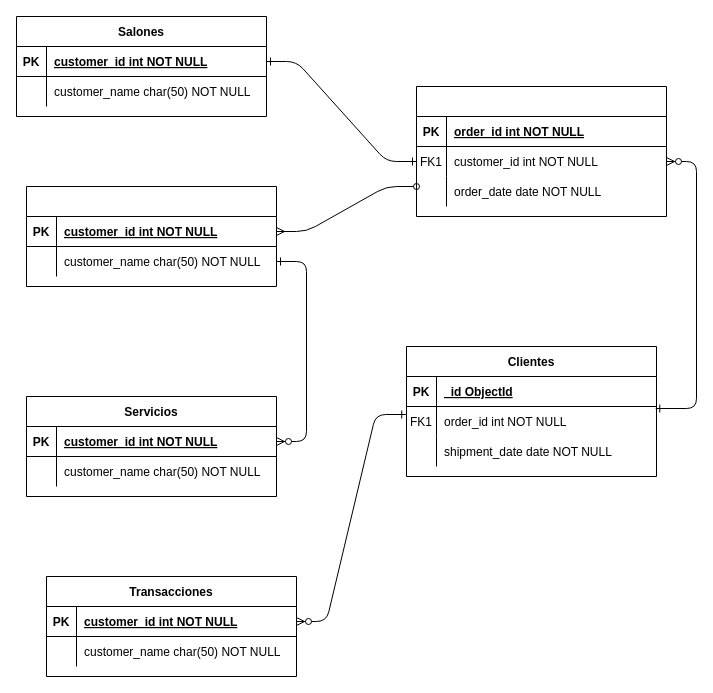
The diagram is 713 pixels wide and 693 high, and some of its shapes have lost their labels. The box of each missing label's shape, as (x1, y1, x2, y2) in pixels:
Contratos: (416, 86, 666, 216)
Paquetes: (26, 186, 276, 286)
